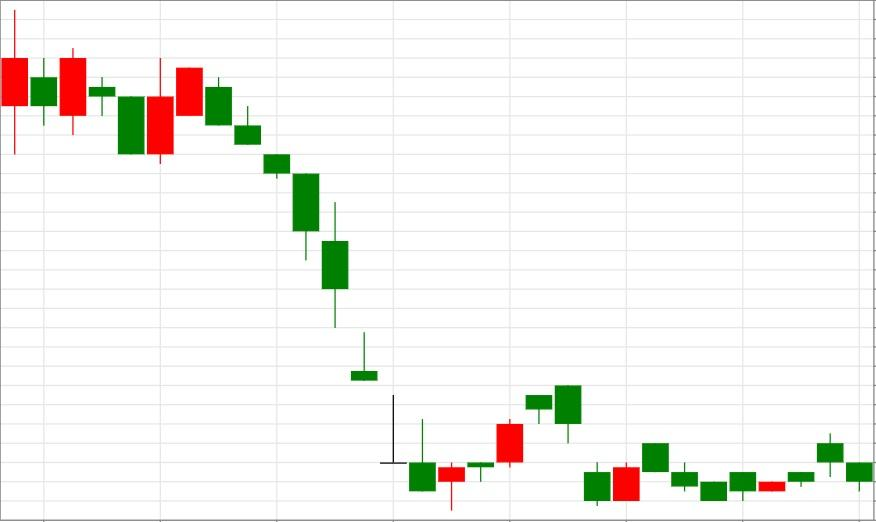three_black_crows_fall: (117, 58, 291, 179)
